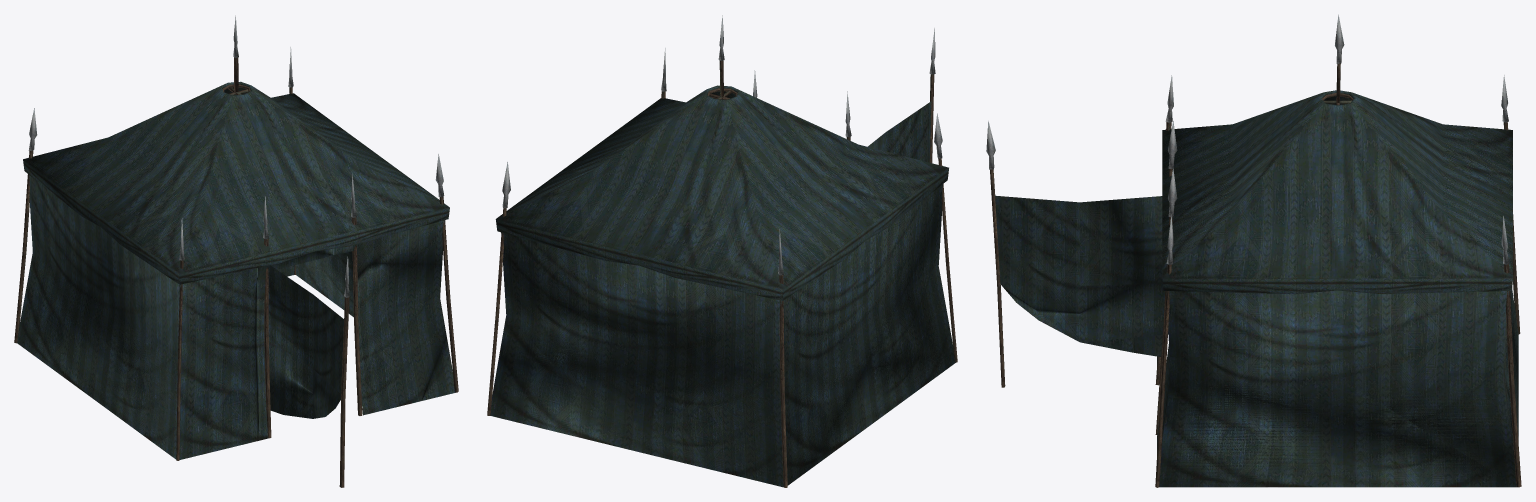
The model's file is GS_VARANT_TENT_04_GALI.glb.
3 views of the same model, side by side, from view 1: azimuth 30°, elevation 25°; view 2: azimuth 150°, elevation 25°; view 3: azimuth 270°, elevation 25° (orthographic). The views are drawn at different scales.
Parts seen in each view (by area): view 1: Mesh; view 2: Mesh; view 3: Mesh.
Boxes of the visible parts, x1,y1,x2,y2 form: Mesh: (14, 15, 458, 487); Mesh: (487, 15, 957, 487); Mesh: (986, 14, 1521, 487).
Size of the model in its own units: 6.41 by 7.64 by 9.34.
Materials: 1 (1 with a texture image).
